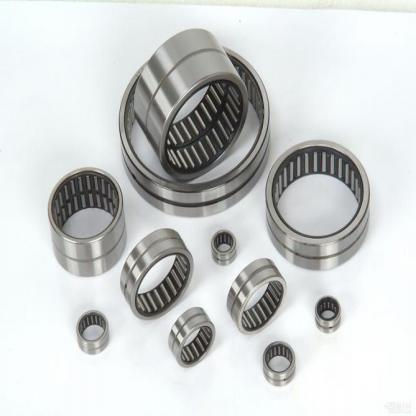FOD: (264, 136, 374, 275), (42, 164, 129, 281), (118, 225, 197, 325), (227, 255, 287, 340), (164, 307, 218, 374), (74, 305, 110, 357), (257, 341, 298, 385), (208, 225, 239, 270), (313, 292, 343, 334)
